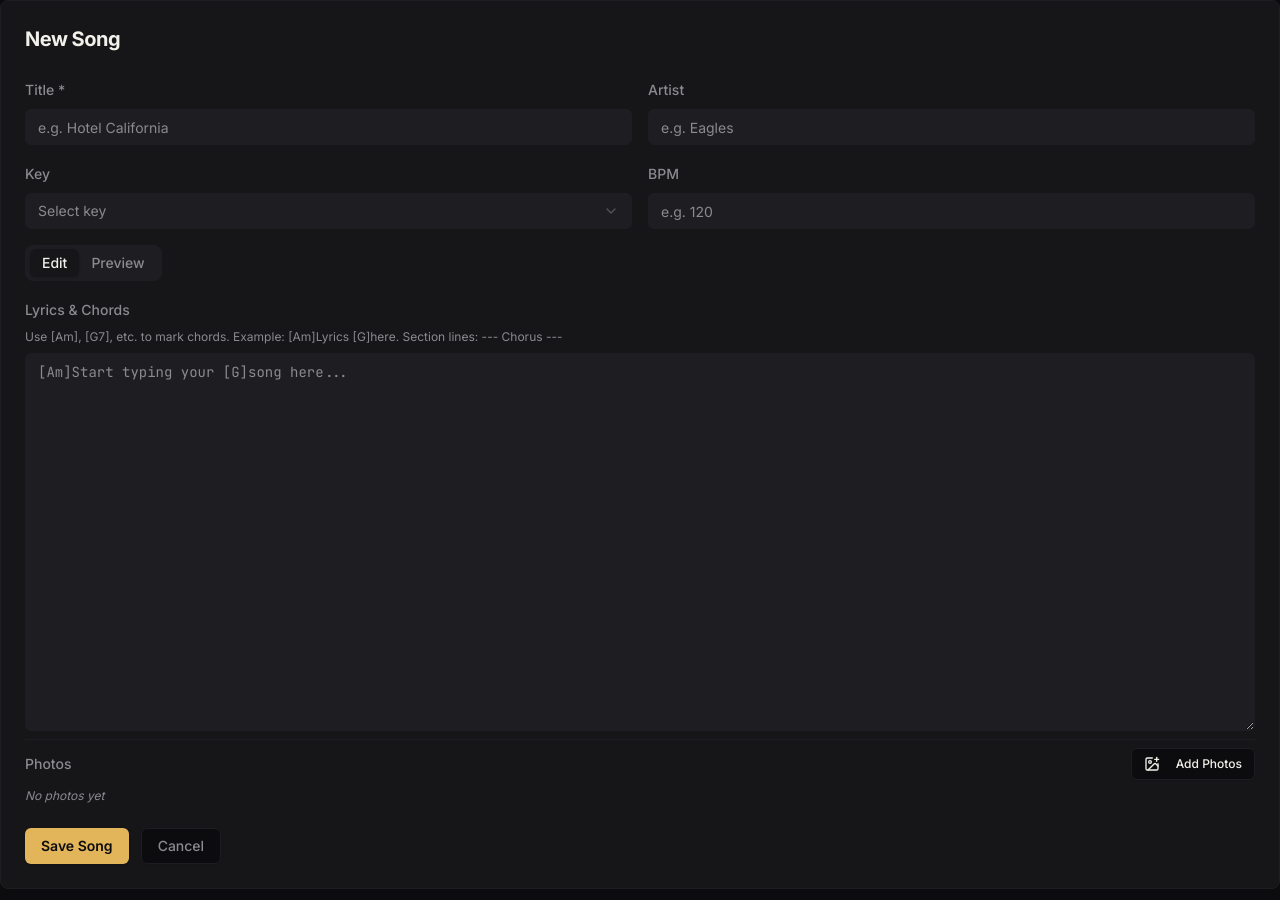
Test: SongEditor › displays error message when database save fails
The width and height of the screenshot is (1280, 900).
Type "Echoes" into the field labelled "Title *" at (328, 127), box [25,109,632,145]
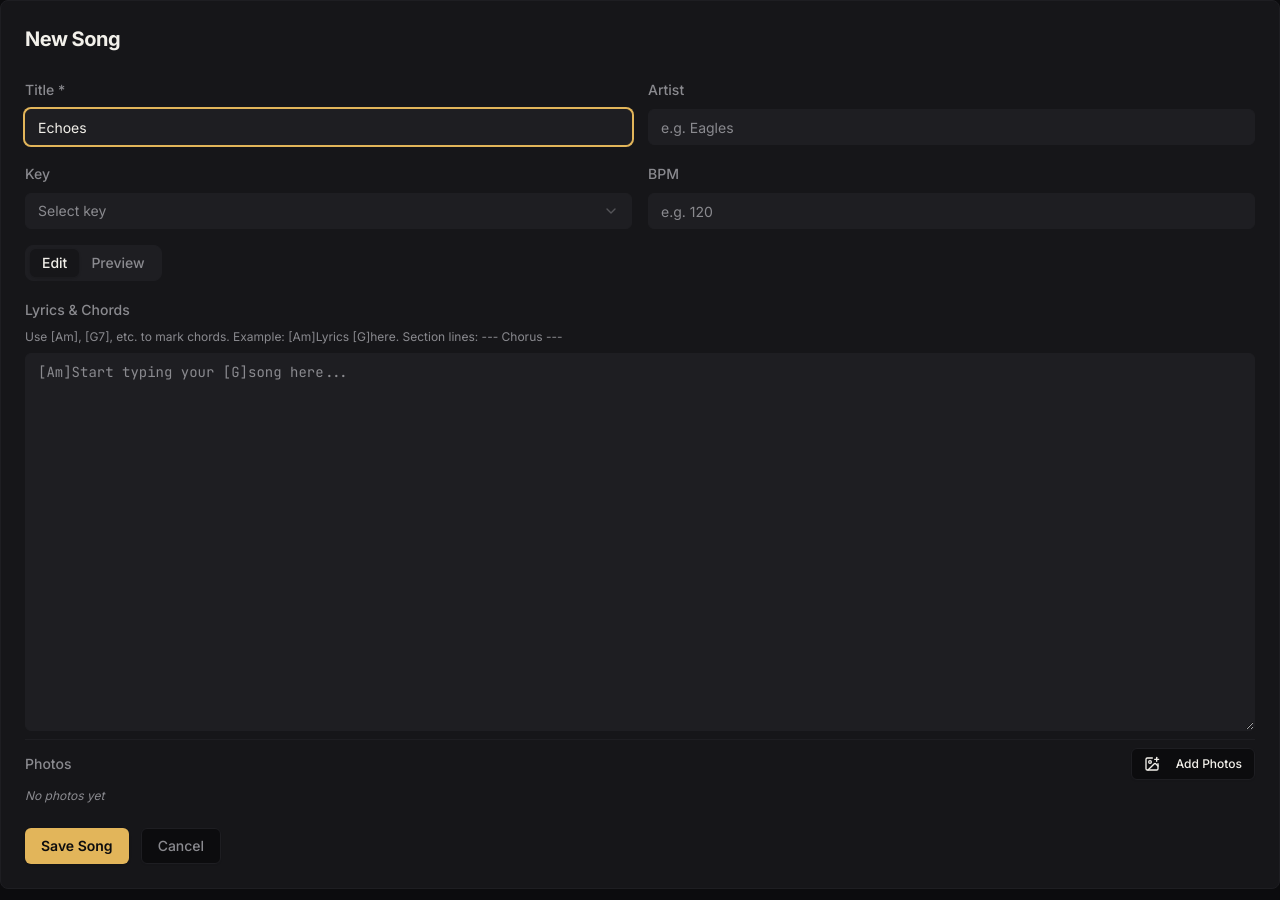
Type "[C]Hello" into the text box labelled "Lyrics & Chords" at (640, 542), box [25,353,1255,731]
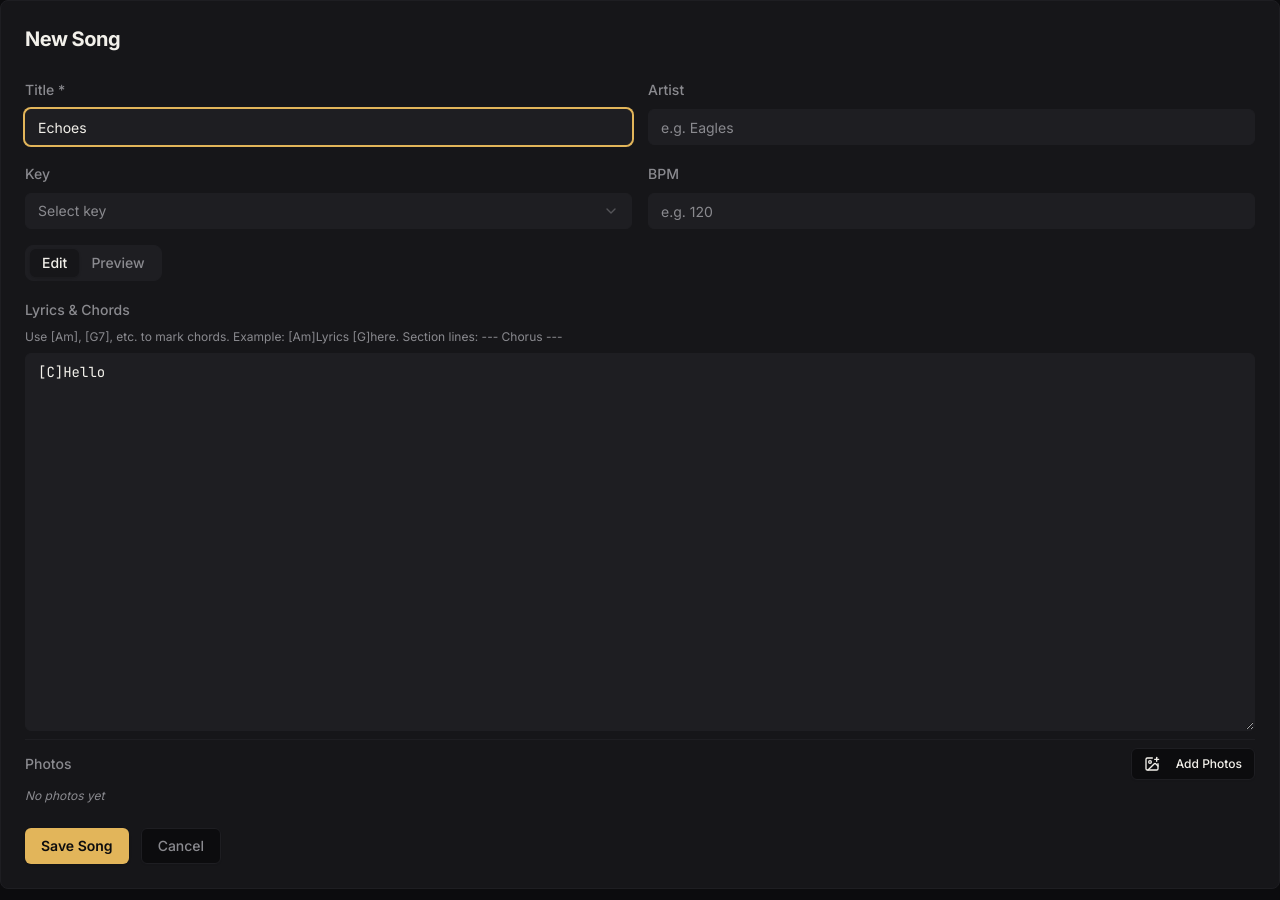
Click the button "Save Song" at (77, 846), box [25,828,129,864]
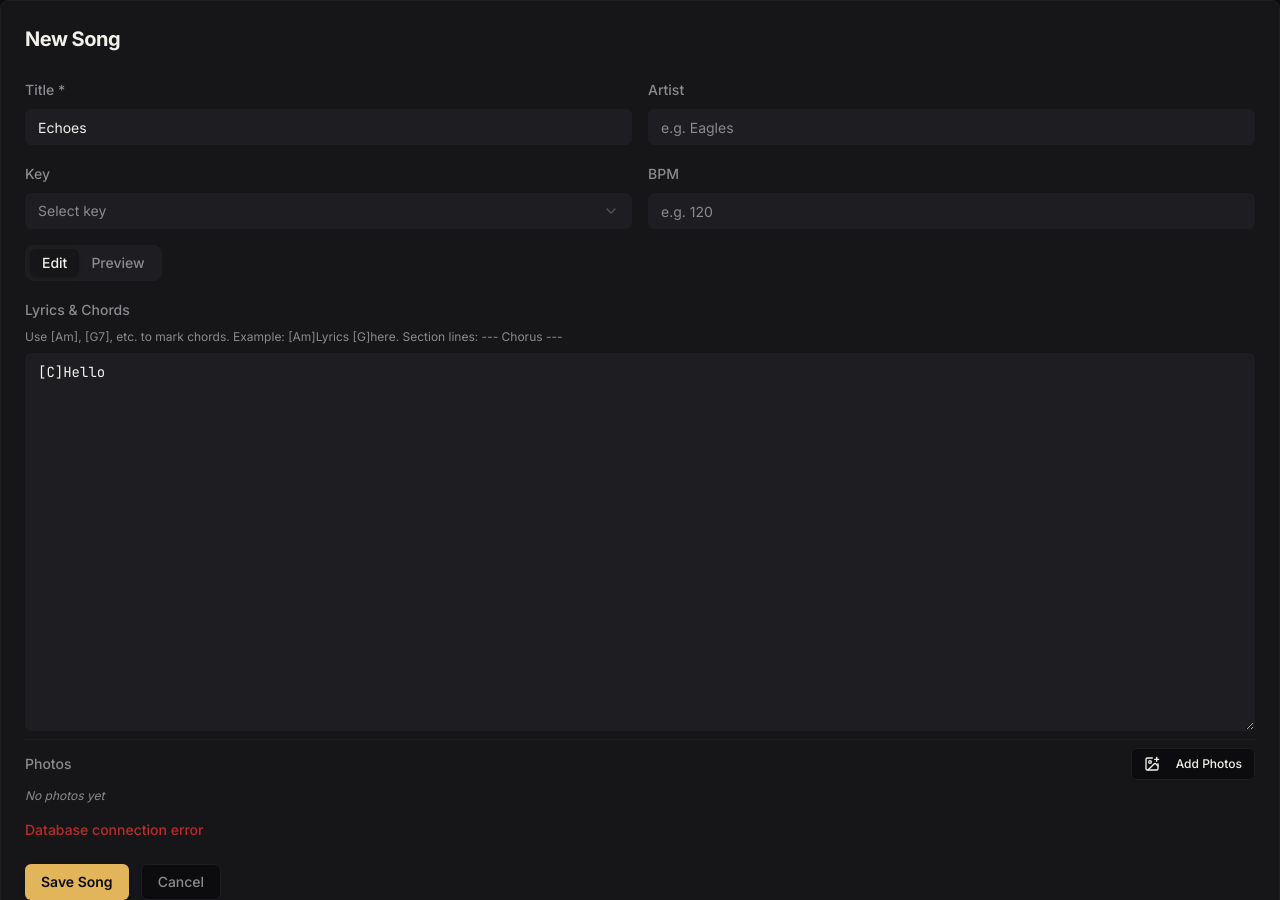
Expected: the text "Database connection error" is shown, [25,821,204,838]
